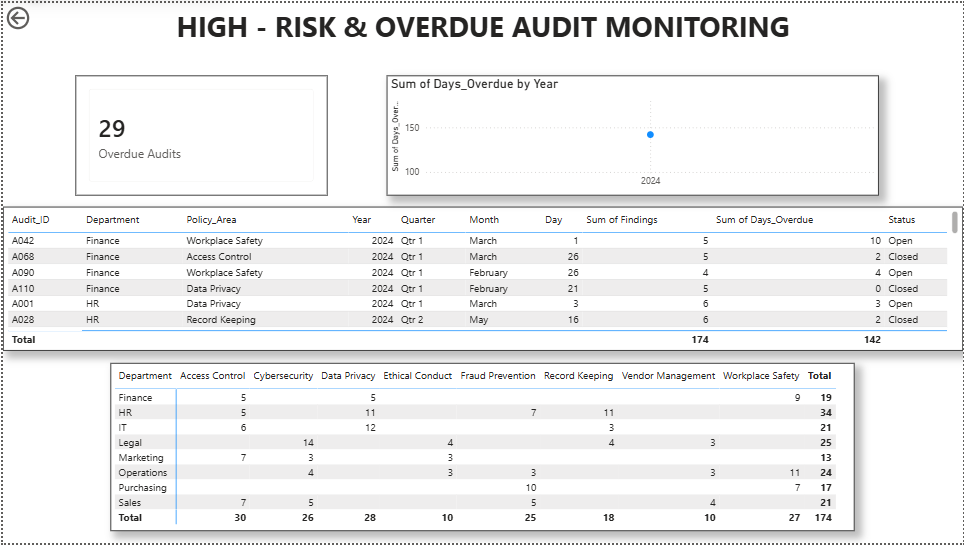

The dashboard page shown, as its layout file describes it:
{"tool":"powerbi","page":{"name":"High - Risk & Overdue Monitoring","canvas":[1280,720],"ordinal":1},"visuals":[{"type":"textbox","box":[0,0,1280,96],"z":0},{"type":"tableEx","fields":{"Values":["Audit_Records.Audit_ID","Audit_Records.Department","Audit_Records.Policy_Area","Audit_Records.Audit_Date.Variation.Date Hierarchy.Year","Audit_Records.Audit_Date.Variation.Date Hierarchy.Quarter","Audit_Records.Audit_Date.Variation.Date Hierarchy.Month","Audit_Records.Audit_Date.Variation.Date Hierarchy.Day","Sum(Audit_Records.Findings)","Sum(Audit_Records.Days_Overdue)","Audit_Records.Status"]},"box":[0,272,1280,192],"z":1000},{"type":"actionButton","box":[0,0,100,40],"z":2000},{"type":"lineChart","fields":{"Y":["Sum(Audit_Records.Days_Overdue)"],"Category":["Audit_Records.Audit_Date.Variation.Date Hierarchy.Year","Audit_Records.Audit_Date.Variation.Date Hierarchy.Quarter","Audit_Records.Audit_Date.Variation.Date Hierarchy.Month","Audit_Records.Audit_Date.Variation.Date Hierarchy.Day"]},"box":[512,96,656,160],"z":3000},{"type":"pivotTable","fields":{"Rows":["Audit_Records.Department"],"Columns":["Audit_Records.Policy_Area"],"Values":["Sum(Audit_Records.Findings)"]},"box":[144,480,992,224],"z":4000},{"type":"cardVisual","fields":{"Data":["Audit_Records.Overdue Audits"]},"box":[96,96,336,160],"z":5000}]}

Visuals, with their boxes in screenshot pixels (x1, y1, x2, y2), scaled from the page's 1280x720 canvas onto the 964x546 screenshot:
textbox: pyautogui.locateOnScreen(0, 0, 963, 73)
tableEx - Audit_Records.Audit_ID x Audit_Records.Department: pyautogui.locateOnScreen(0, 206, 963, 352)
actionButton: pyautogui.locateOnScreen(0, 0, 75, 30)
lineChart - Sum(Audit_Records.Days_Overdue) x Audit_Records.Audit_Date.Variation.Date Hierarchy.Year: pyautogui.locateOnScreen(386, 73, 880, 194)
pivotTable - Audit_Records.Department x Audit_Records.Policy_Area: pyautogui.locateOnScreen(108, 364, 856, 534)
cardVisual - Audit_Records.Overdue Audits: pyautogui.locateOnScreen(72, 73, 325, 194)
